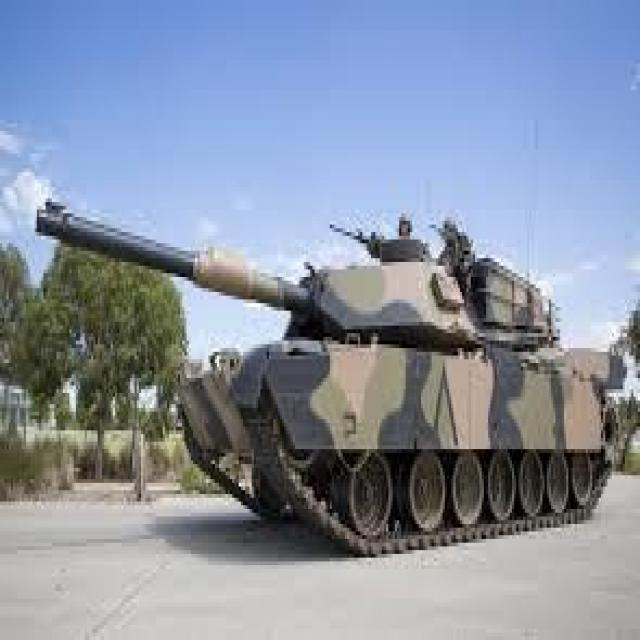Tanks: (25, 108, 572, 602)
